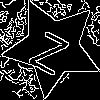Z: (27, 22, 75, 77)
